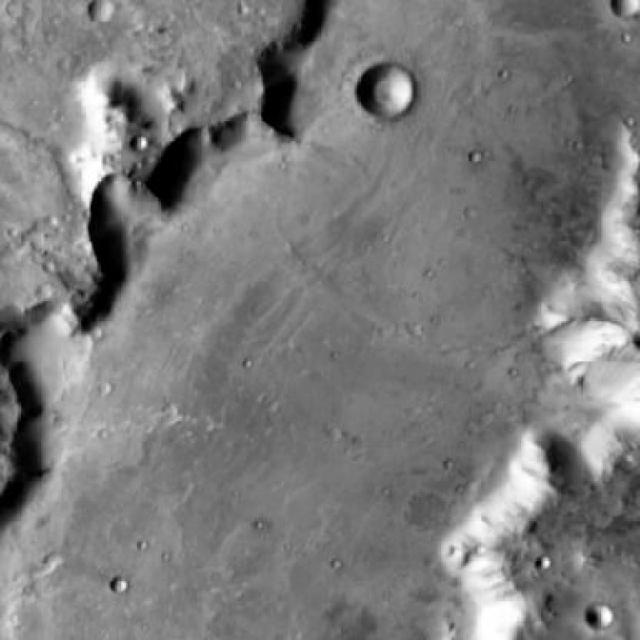crater: (359, 61, 416, 114), (592, 603, 619, 629), (84, 0, 111, 22), (128, 136, 147, 153), (112, 576, 130, 593)
